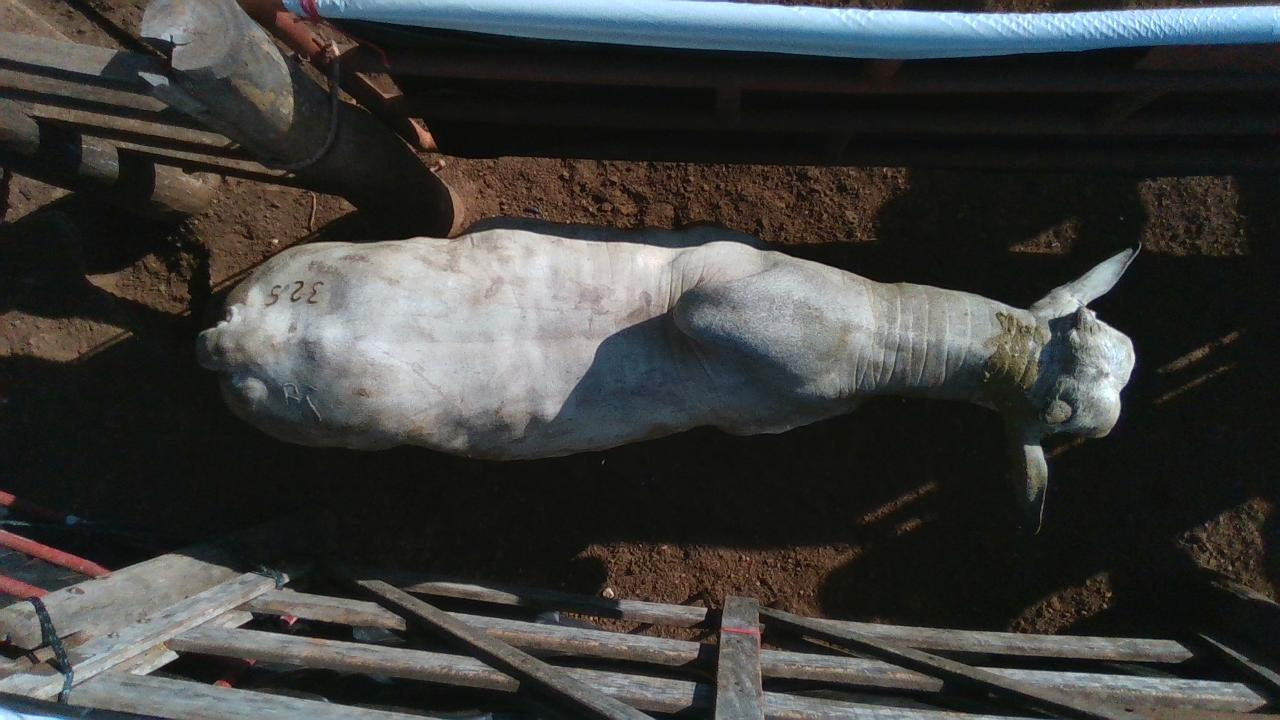cattle: (194, 215, 1142, 534)
